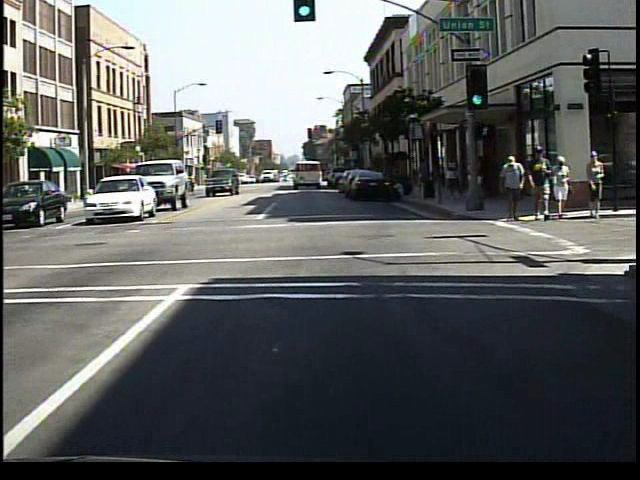person: (496, 149, 532, 227), (527, 145, 555, 227), (580, 147, 607, 224), (550, 155, 574, 226), (440, 152, 463, 204), (184, 171, 202, 200)
